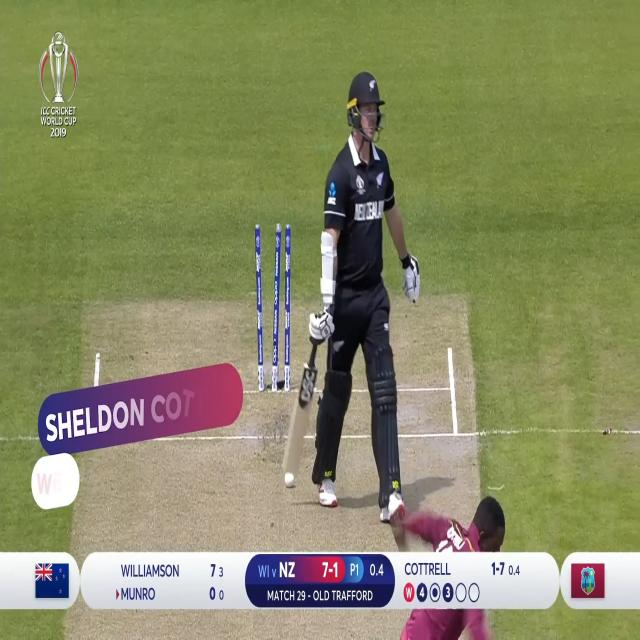ball: (281, 463, 296, 489)
